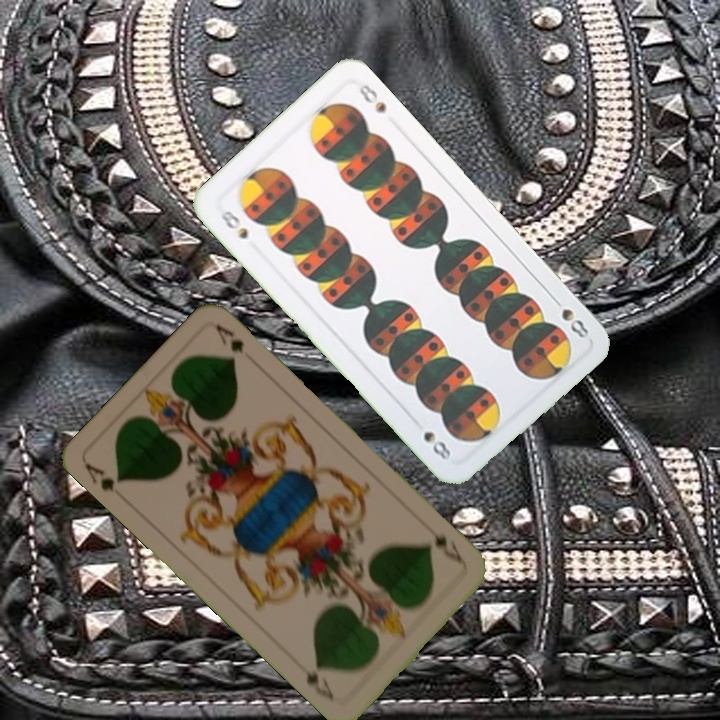GA: (422, 522, 469, 569), (81, 459, 125, 494)
S8: (216, 206, 251, 242), (557, 304, 591, 341)
